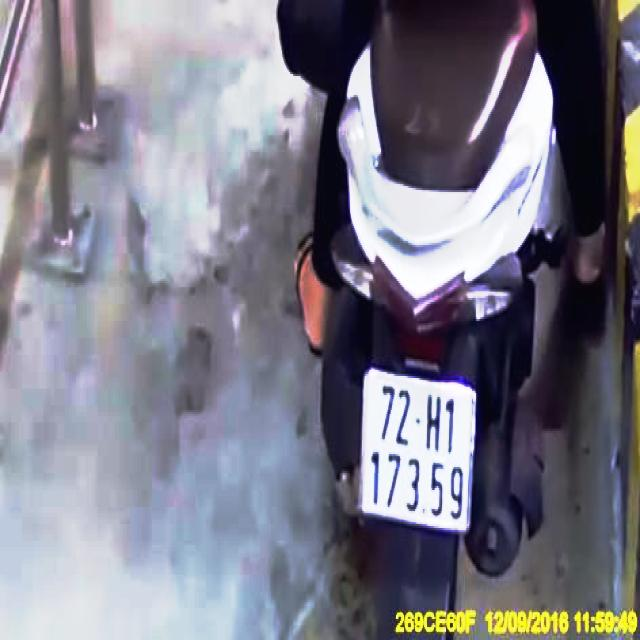license_plate: (363, 371, 474, 533)
